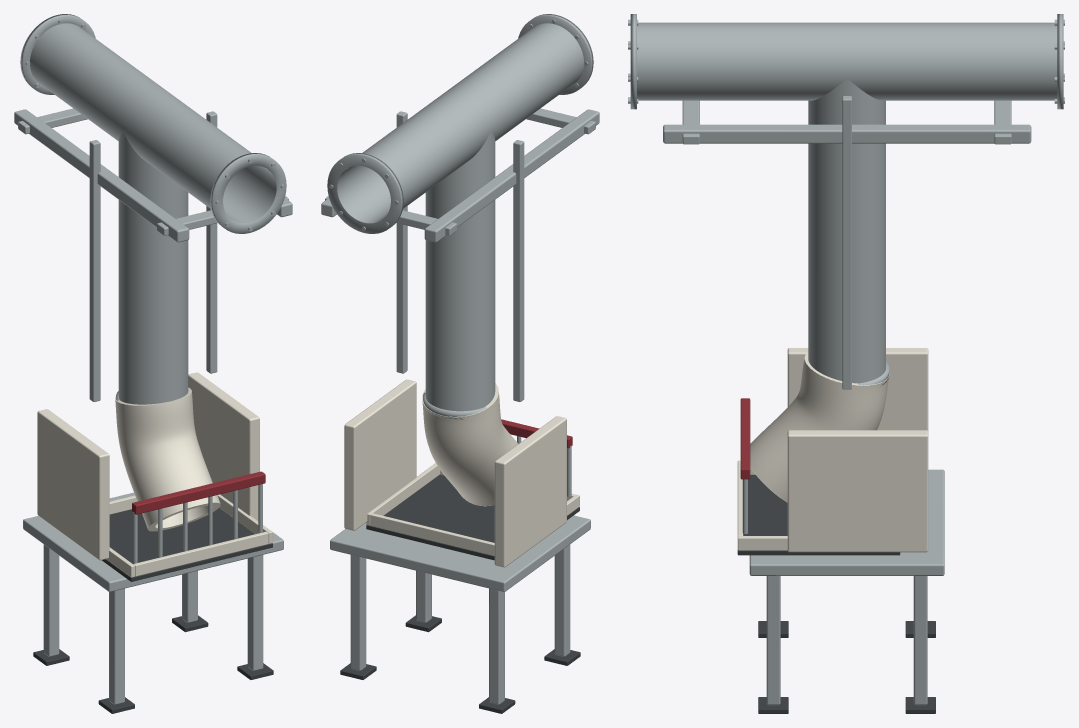
The model's file is pneumatic-tube-mail-exchange-pneumatic-tube-mail-excha-956d9889__32286.glb.
3 views of the same model, side by side, from view 1: azimuth 30°, elevation 25°; view 2: azimuth 150°, elevation 25°; view 3: azimuth 270°, elevation 25° (orthographic). The views are drawn at different scales.
Parts seen in each view (by area): view 1: pneumatic-tube-mail-exchange-gravity-receiving-station; view 2: pneumatic-tube-mail-exchange-gravity-receiving-station; view 3: pneumatic-tube-mail-exchange-gravity-receiving-station.
Boxes of the visible parts, x1,y1,x2,y2 form: pneumatic-tube-mail-exchange-gravity-receiving-station: [14, 14, 292, 713]; pneumatic-tube-mail-exchange-gravity-receiving-station: [321, 14, 599, 713]; pneumatic-tube-mail-exchange-gravity-receiving-station: [628, 14, 1064, 713].
Bounding box in the file's own units: 1.05 × 3.32 × 2.02.
